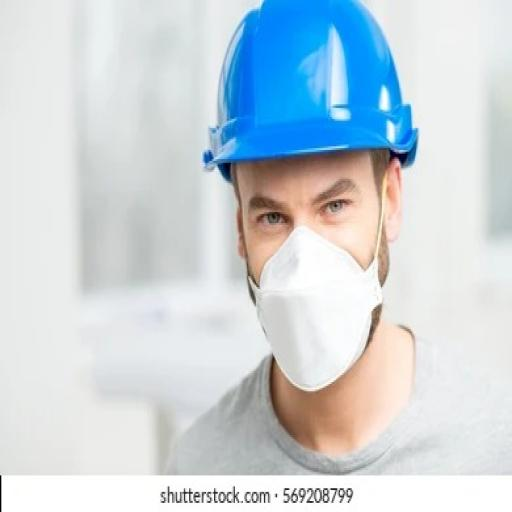mask: (239, 226, 384, 396)
